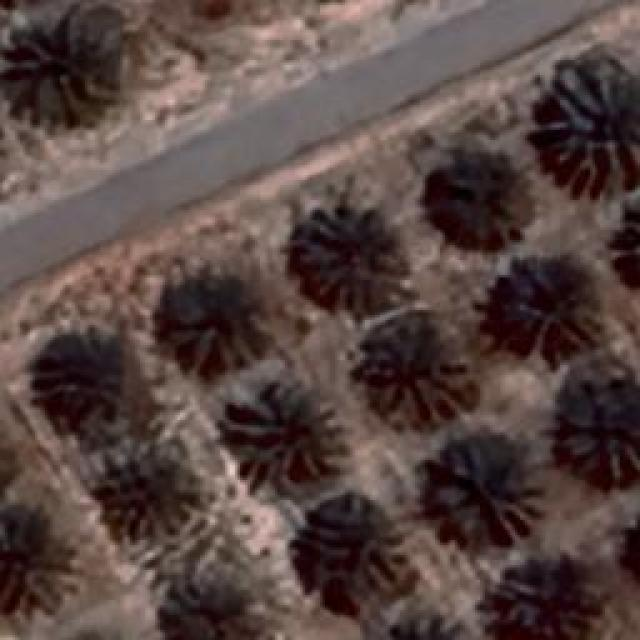PalmTree: (294, 498, 414, 610), (222, 380, 342, 490), (540, 67, 638, 195), (5, 14, 113, 128), (430, 442, 552, 540), (362, 324, 476, 428), (491, 262, 604, 358), (164, 272, 266, 366), (298, 215, 402, 305), (32, 332, 136, 422), (431, 158, 529, 246), (572, 370, 640, 492), (504, 562, 592, 640), (172, 562, 256, 640), (0, 505, 55, 620), (109, 452, 189, 526), (373, 603, 476, 640), (605, 193, 640, 297)
